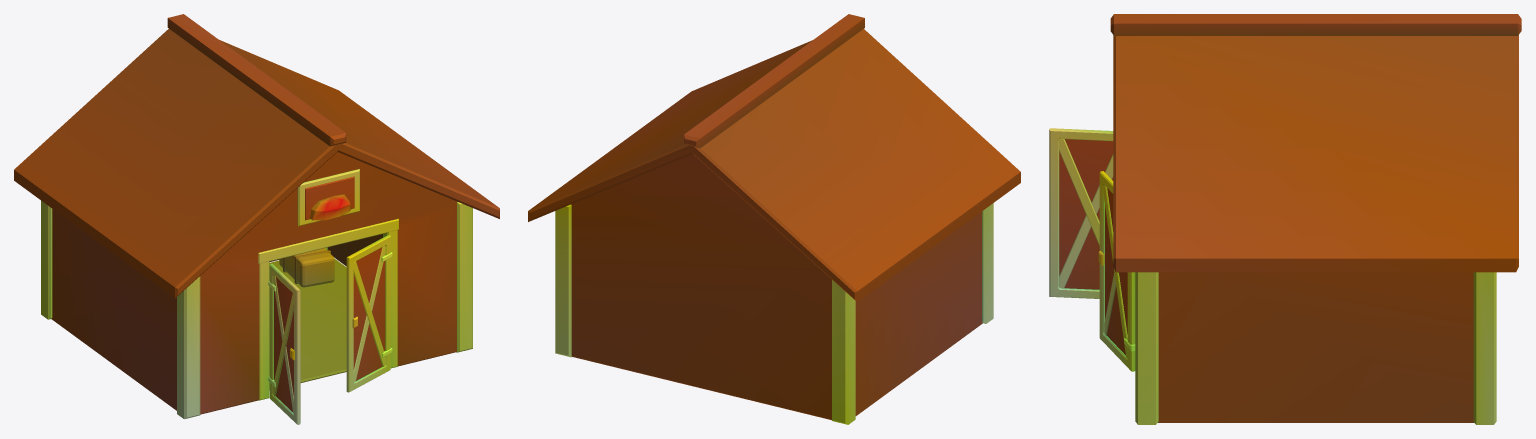
Rendered from Farm_Barn.fbx.
3 views of the same model, side by side, from view 1: azimuth 30°, elevation 25°; view 2: azimuth 150°, elevation 25°; view 3: azimuth 270°, elevation 25° (orthographic). The views are drawn at different scales.
Visible parts, largest first — view 1: Farm_Barn, Door_R, Door_L; view 2: Farm_Barn; view 3: Farm_Barn, Door_L, Door_R.
Part boxes in pixels (x1,y1,x2,y2): Farm_Barn: (14,14,499,419); Door_R: (346,235,392,392); Door_L: (268,263,300,424); Farm_Barn: (528,14,1020,424); Farm_Barn: (1110,14,1521,424); Door_L: (1049,128,1113,298); Door_R: (1098,171,1135,371).
Size of the model in its own units: 5.24 by 3.95 by 5.31.
